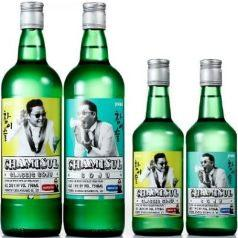soju: (1, 2, 127, 238), (131, 56, 238, 237)
